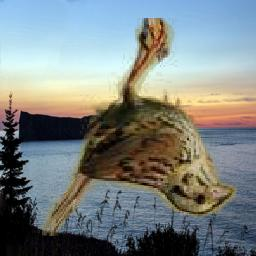Sparrow: (39, 18, 238, 236)
